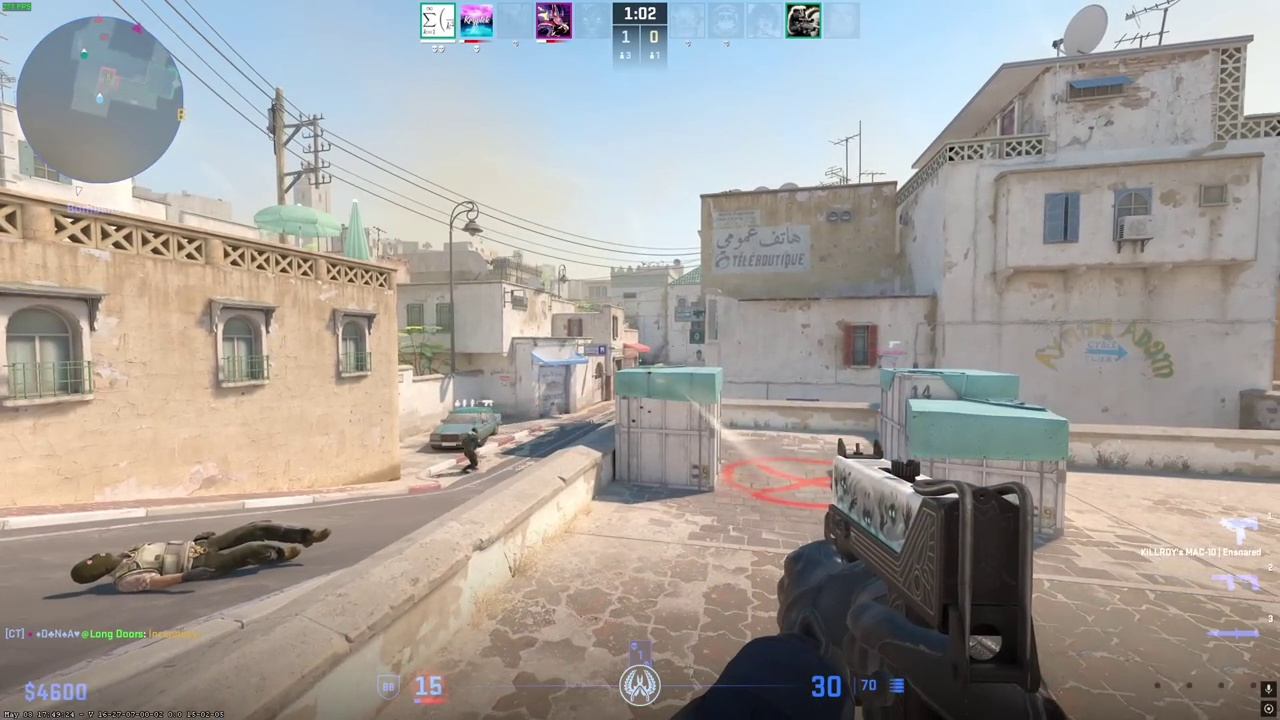CT: (462, 427, 482, 472)
